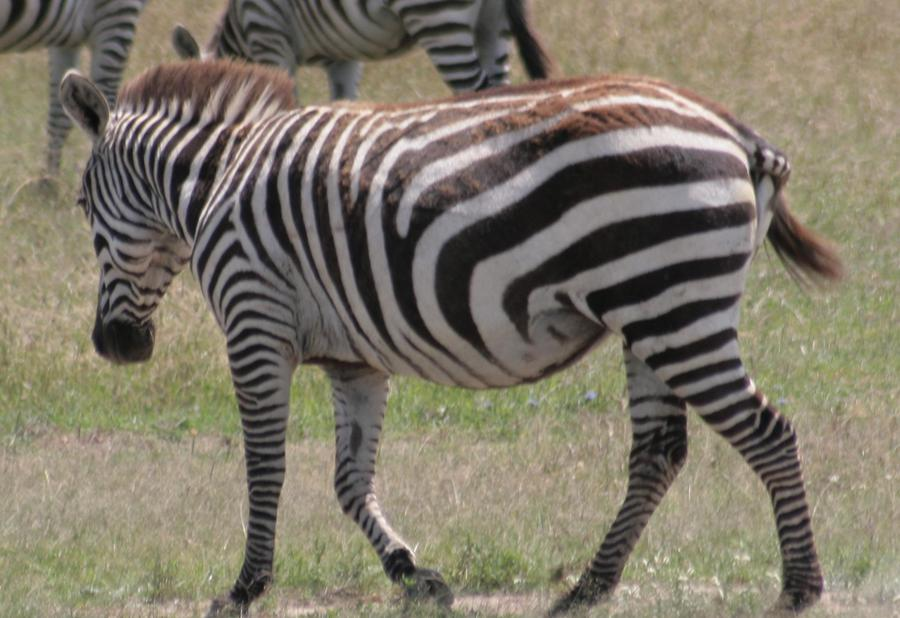zebra_plains: (192, 96, 718, 376)
